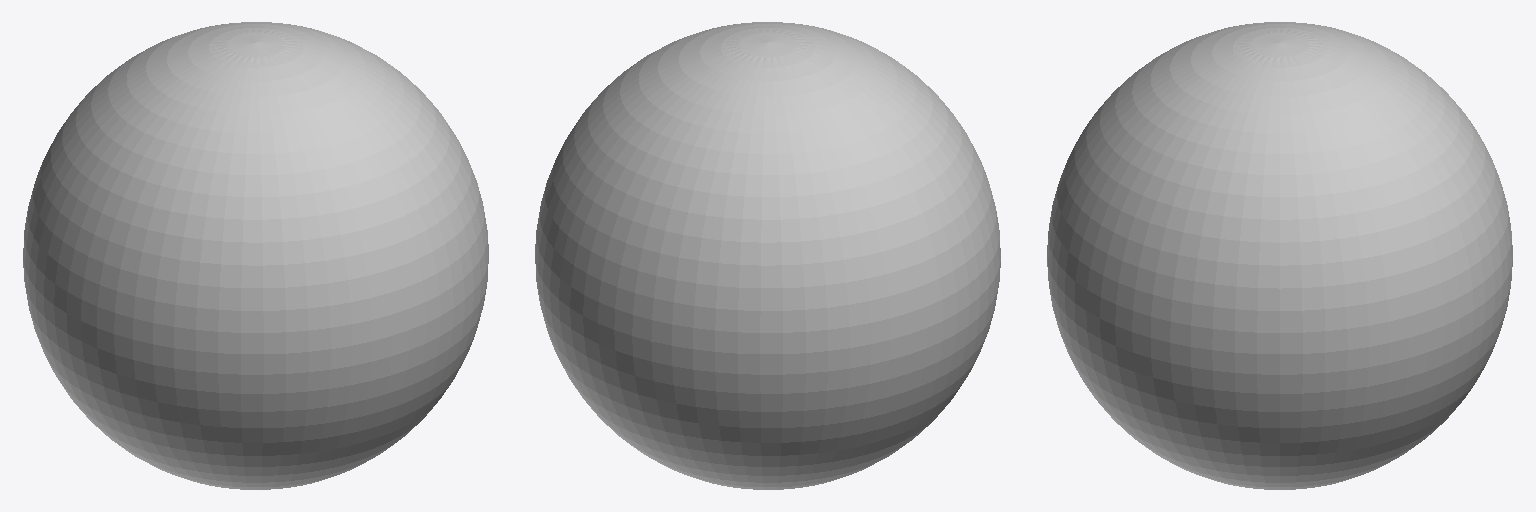
Rendered from unitsphere.obj.
3 renders of one model, left to right at view 1: azimuth 30°, elevation 25°; view 2: azimuth 150°, elevation 25°; view 3: azimuth 270°, elevation 25°, orthographic.
Parts seen in each view (by area): view 1: Sphere.001; view 2: Sphere.001; view 3: Sphere.001.
Boxes of the visible parts, <box> form: Sphere.001: <box>23,22,488,489</box>; Sphere.001: <box>535,22,1000,489</box>; Sphere.001: <box>1047,22,1512,489</box>.
Bounding box in the file's own units: 0.9872 × 0.9976 × 0.9872.